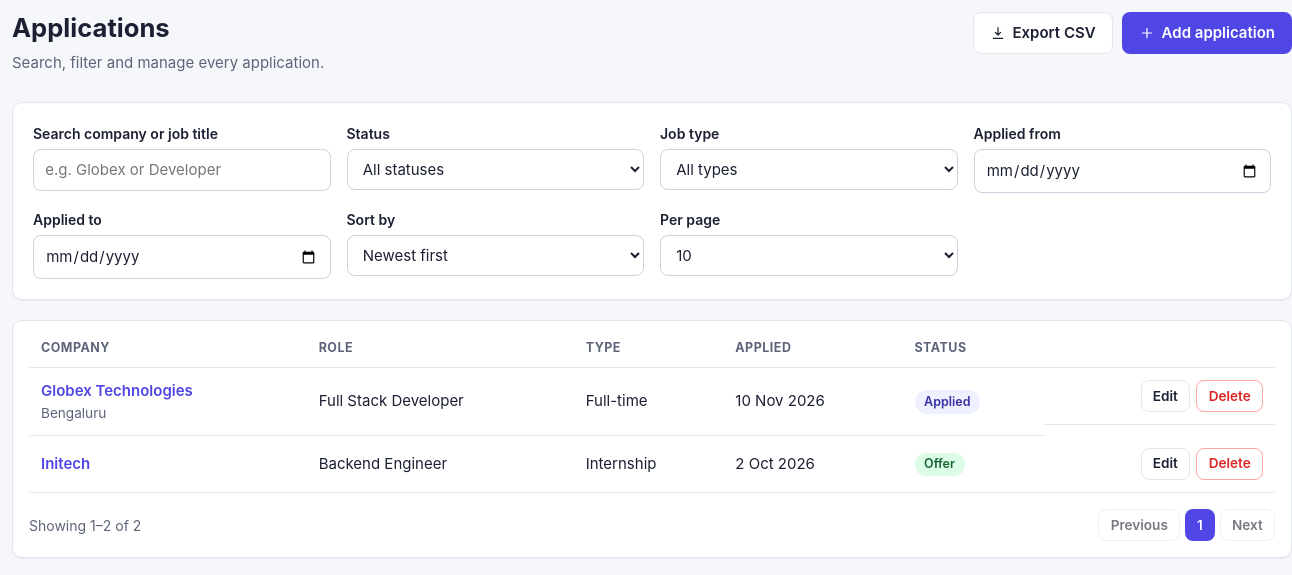
Test: Applications page › shows a "no matches" state and lets the user clear the filters
Check: the link "Globex Technologies" is shown, box top-left (41, 381), bottom-right (193, 400)
Select "Withdrawn" in the dropdown labelled "Status" at (495, 170), box top-left (346, 149), bottom-right (644, 190)
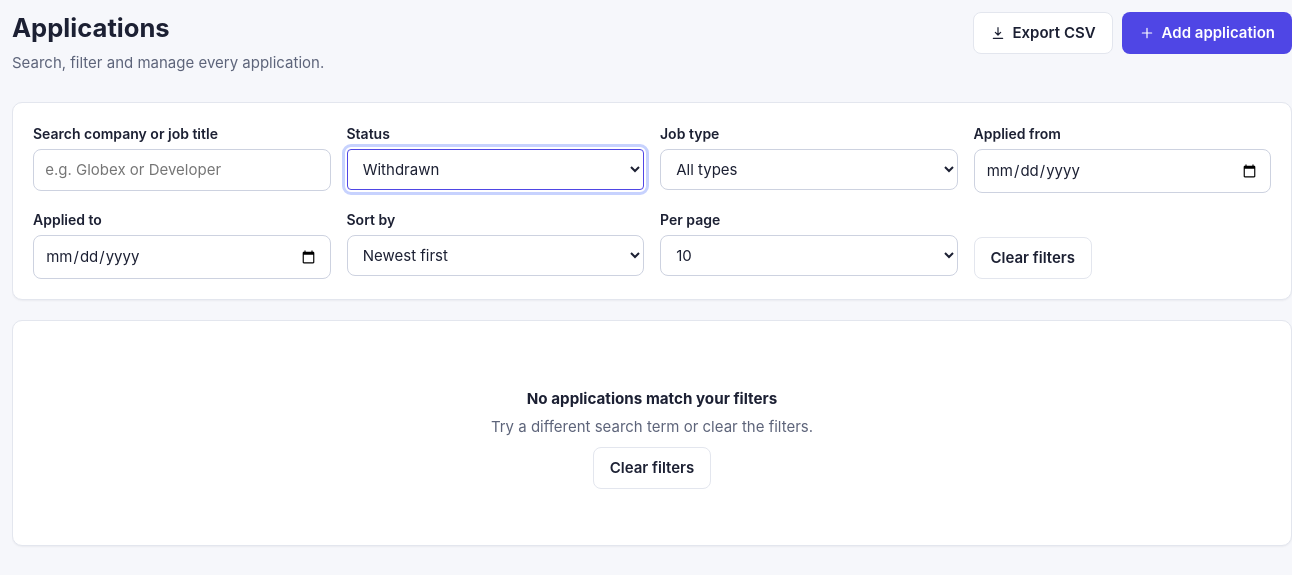
Check: the heading "No applications match your filters" is shown, box top-left (527, 389), bottom-right (777, 408)
Click the button "Clear filters" below "Per page" at (1033, 258), box top-left (974, 237), bottom-right (1092, 279)
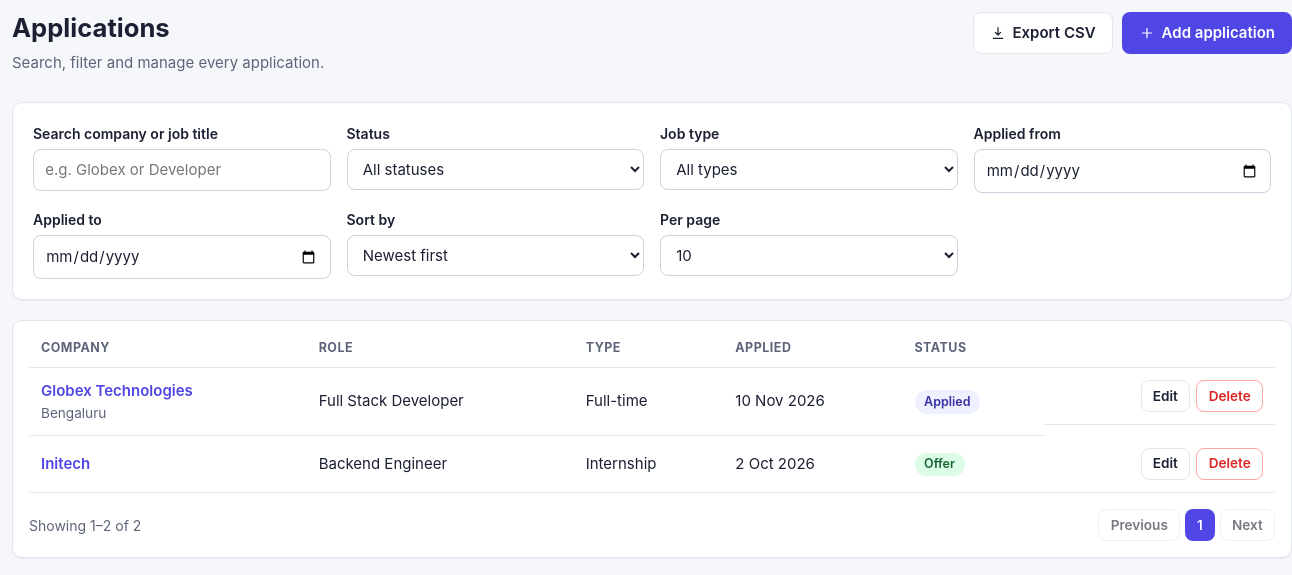
Check: the link "Globex Technologies" is shown, box top-left (41, 381), bottom-right (193, 400)
